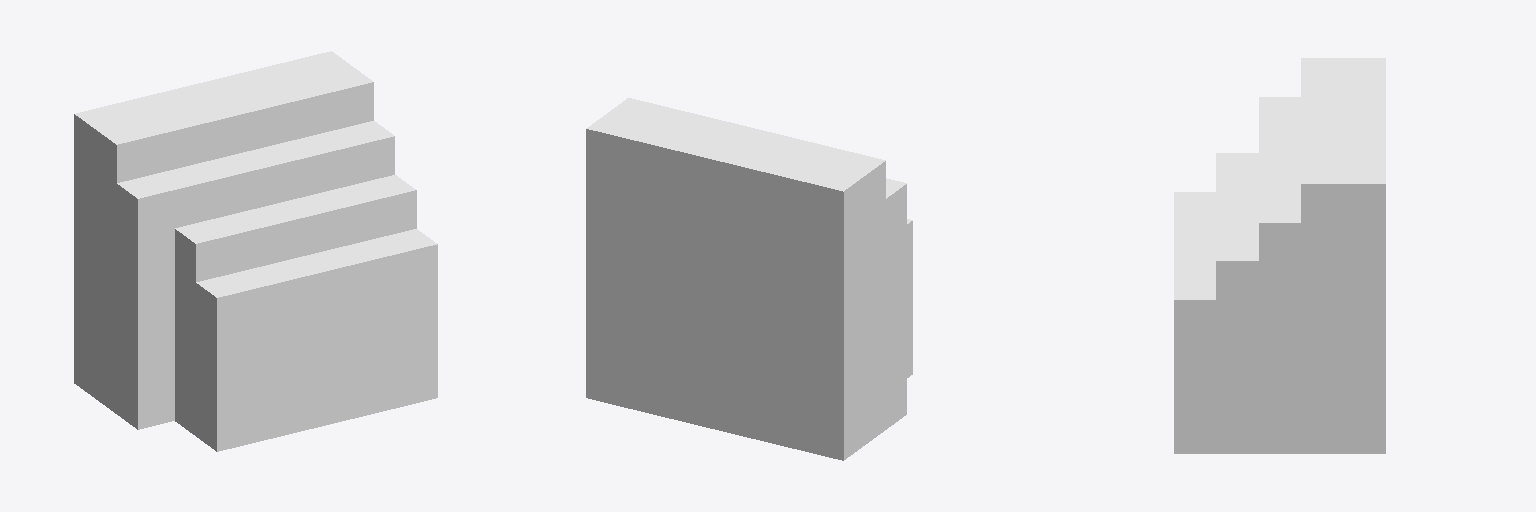
The model's file is Character1_RightArm.obj.
3 renders of one model, left to right at view 1: azimuth 30°, elevation 25°; view 2: azimuth 150°, elevation 25°; view 3: azimuth 270°, elevation 25°, orthographic.
Parts seen in each view (by area): view 1: object 1; view 2: object 1; view 3: object 1.
Part boxes in pixels (left/top/right/bottom): object 1: left=74, top=51, right=437, bottom=451; object 1: left=586, top=98, right=912, bottom=460; object 1: left=1174, top=58, right=1385, bottom=453.
Size of the model in its own units: 0.7 by 0.7 by 0.5.